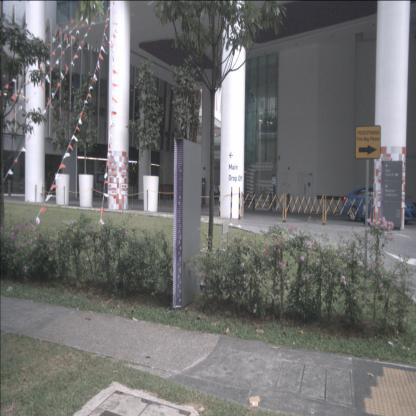human-pedestrian-adult: (214, 181, 219, 205)
vehicle-car: (342, 184, 416, 228)
